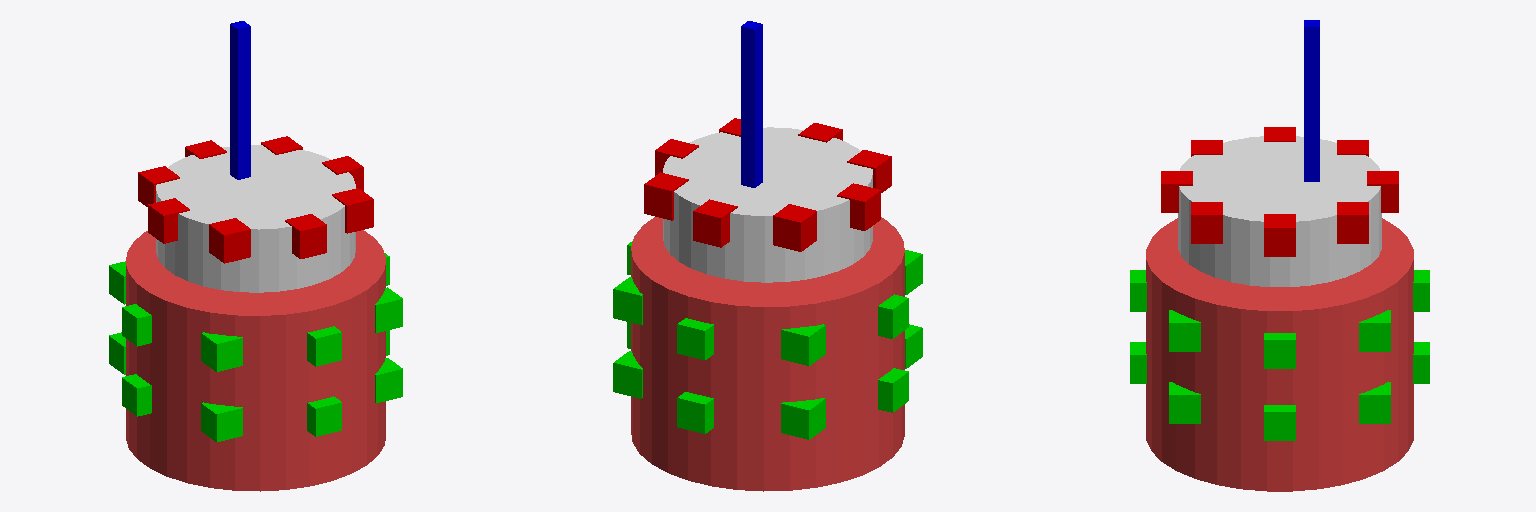
URDF robot description (random_bottle):
<?xml version="1.0"?>
<robot name="random_bottle">

  <!-- Define the cap link -->
  <link name="link1">
    <visual>
      <geometry>
        <mesh filename="cap.obj" scale="1.0 1.0 1.0"/>
      </geometry>
       <material name="white">
        <color rgba=".9 .9 .9 1"/>
      </material>

    </visual>
    <collision>
      <geometry>
        <mesh filename="cap.obj" scale="1.0 1.0 1.0"/>
      </geometry>
    </collision>

    <inertial>
      <mass value="0.010800507779862528"/> <!-- You can adjust the mass as needed -->
      <origin rpy="0 0 0" xyz="0 0 0"/>
      <inertia ixx="3.2770973453452133e-06" ixy="0.0" ixz="0.0" iyy="3.2770973453452133e-06" iyz="0.0" izz="5.641009822586555e-06"/>
    </inertial>
  </link>

    <link name="l10">
    <visual>
      <geometry>
        <box size="0.01 0.01 0.01"/>
      </geometry>

      <material name="red">
        <color rgba="0.9 0.0 0.0 1"/>
      </material>

    </visual>

    <inertial>
      <mass value="0.0001"/> <!-- You can adjust the mass as needed -->
      <origin rpy="0 0 0" xyz="0 0 -0.00"/> <!-- Offset by half of link1's height + 0.03m for the margin -->
      <inertia ixx="0.000000003" ixy="0.0" ixz="0.0" iyy="0.0000003" iyz="0.0" izz="0.00000003"/>
    </inertial>

  </link>
  <link name="l11">
    <visual>
      <geometry>
        <box size="0.01 0.01 0.01"/>
      </geometry>

      <material name="red">
        <color rgba="0.9 0.0 0.0 1"/>
      </material>

    </visual>

    <inertial>
      <mass value="0.0001"/> <!-- You can adjust the mass as needed -->
      <origin rpy="0 0 0" xyz="0 0 -0.00"/> <!-- Offset by half of link1's height + 0.03m for the margin -->
      <inertia ixx="0.000000003" ixy="0.0" ixz="0.0" iyy="0.0000003" iyz="0.0" izz="0.00000003"/>
    </inertial>

  </link>
  <link name="l12">
    <visual>
      <geometry>
        <box size="0.01 0.01 0.01"/>
      </geometry>

      <material name="red">
        <color rgba="0.9 0.0 0.0 1"/>
      </material>

    </visual>

    <inertial>
      <mass value="0.0001"/> <!-- You can adjust the mass as needed -->
      <origin rpy="0 0 0" xyz="0 0 -0.00"/> <!-- Offset by half of link1's height + 0.03m for the margin -->
      <inertia ixx="0.000000003" ixy="0.0" ixz="0.0" iyy="0.0000003" iyz="0.0" izz="0.00000003"/>
    </inertial>

  </link>
  <link name="l13">
    <visual>
      <geometry>
        <box size="0.01 0.01 0.01"/>
      </geometry>

      <material name="red">
        <color rgba="0.9 0.0 0.0 1"/>
      </material>

    </visual>

    <inertial>
      <mass value="0.0001"/> <!-- You can adjust the mass as needed -->
      <origin rpy="0 0 0" xyz="0 0 -0.00"/> <!-- Offset by half of link1's height + 0.03m for the margin -->
      <inertia ixx="0.000000003" ixy="0.0" ixz="0.0" iyy="0.0000003" iyz="0.0" izz="0.00000003"/>
    </inertial>

  </link>
  <link name="l10b">
    <visual>
      <geometry>
        <box size="0.01 0.01 0.01"/>
      </geometry>

      <material name="red">
        <color rgba="0.9 0.0 0.0 1"/>
      </material>

    </visual>

    <inertial>
      <mass value="0.0001"/> <!-- You can adjust the mass as needed -->
      <origin rpy="0 0 0" xyz="0 0 -0.00"/> <!-- Offset by half of link1's height + 0.03m for the margin -->
      <inertia ixx="0.000000003" ixy="0.0" ixz="0.0" iyy="0.0000003" iyz="0.0" izz="0.00000003"/>
    </inertial>

  </link>
  <link name="l11b">
    <visual>
      <geometry>
        <box size="0.01 0.01 0.01"/>
      </geometry>

      <material name="red">
        <color rgba="0.9 0.0 0.0 1"/>
      </material>

    </visual>

    <inertial>
      <mass value="0.0001"/> <!-- You can adjust the mass as needed -->
      <origin rpy="0 0 0" xyz="0 0 -0.00"/> <!-- Offset by half of link1's height + 0.03m for the margin -->
      <inertia ixx="0.000000003" ixy="0.0" ixz="0.0" iyy="0.0000003" iyz="0.0" izz="0.00000003"/>
    </inertial>

  </link>
  <link name="l12b">
    <visual>
      <geometry>
        <box size="0.01 0.01 0.01"/>
      </geometry>

      <material name="red">
        <color rgba="0.9 0.0 0.0 1"/>
      </material>

    </visual>

    <inertial>
      <mass value="0.0001"/> <!-- You can adjust the mass as needed -->
      <origin rpy="0 0 0" xyz="0 0 -0.00"/> <!-- Offset by half of link1's height + 0.03m for the margin -->
      <inertia ixx="0.000000003" ixy="0.0" ixz="0.0" iyy="0.0000003" iyz="0.0" izz="0.00000003"/>
    </inertial>

  </link>
  <link name="l13b">
    <visual>
      <geometry>
        <box size="0.01 0.01 0.01"/>
      </geometry>

      <material name="red">
        <color rgba="0.9 0.0 0.0 1"/>
      </material>

    </visual>

    <inertial>
      <mass value="0.0001"/> <!-- You can adjust the mass as needed -->
      <origin rpy="0 0 0" xyz="0 0 -0.00"/> <!-- Offset by half of link1's height + 0.03m for the margin -->
      <inertia ixx="0.000000003" ixy="0.0" ixz="0.0" iyy="0.0000003" iyz="0.0" izz="0.00000003"/>
    </inertial>

  </link>
  <link name="l20">
    <visual>
      <geometry>
        <box size="0.01 0.01 0.01"/>
      </geometry>

      <material name="red">
        <color rgba="0.0 0.9 0.0 1"/>
      </material>

    </visual>

    <inertial>
      <mass value="0.0001"/> <!-- You can adjust the mass as needed -->
      <origin rpy="0 0 0" xyz="0 0 -0.00"/> <!-- Offset by half of link1's height + 0.03m for the margin -->
      <inertia ixx="0.000000003" ixy="0.0" ixz="0.0" iyy="0.0000003" iyz="0.0" izz="0.00000003"/>
    </inertial>

  </link>
  <link name="l21">
    <visual>
      <geometry>
        <box size="0.01 0.01 0.01"/>
      </geometry>

      <material name="red">
        <color rgba="0.0 0.9 0.0 1"/>
      </material>

    </visual>

    <inertial>
      <mass value="0.0001"/> <!-- You can adjust the mass as needed -->
      <origin rpy="0 0 0" xyz="0 0 -0.00"/> <!-- Offset by half of link1's height + 0.03m for the margin -->
      <inertia ixx="0.000000003" ixy="0.0" ixz="0.0" iyy="0.0000003" iyz="0.0" izz="0.00000003"/>
    </inertial>

  </link>
  <link name="l22">
    <visual>
      <geometry>
        <box size="0.01 0.01 0.01"/>
      </geometry>

      <material name="red">
        <color rgba="0.0 0.9 0.0 1"/>
      </material>

    </visual>

    <inertial>
      <mass value="0.0001"/> <!-- You can adjust the mass as needed -->
      <origin rpy="0 0 0" xyz="0 0 -0.00"/> <!-- Offset by half of link1's height + 0.03m for the margin -->
      <inertia ixx="0.000000003" ixy="0.0" ixz="0.0" iyy="0.0000003" iyz="0.0" izz="0.00000003"/>
    </inertial>

  </link>
  <link name="l23">
    <visual>
      <geometry>
        <box size="0.01 0.01 0.01"/>
      </geometry>

      <material name="red">
        <color rgba="0.0 0.9 0.0 1"/>
      </material>

    </visual>

    <inertial>
      <mass value="0.0001"/> <!-- You can adjust the mass as needed -->
      <origin rpy="0 0 0" xyz="0 0 -0.00"/> <!-- Offset by half of link1's height + 0.03m for the margin -->
      <inertia ixx="0.000000003" ixy="0.0" ixz="0.0" iyy="0.0000003" iyz="0.0" izz="0.00000003"/>
    </inertial>

  </link>
  <link name="l24">
    <visual>
      <geometry>
        <box size="0.01 0.01 0.01"/>
      </geometry>

      <material name="red">
        <color rgba="0.0 0.9 0.0 1"/>
      </material>

    </visual>

    <inertial>
      <mass value="0.0001"/> <!-- You can adjust the mass as needed -->
      <origin rpy="0 0 0" xyz="0 0 -0.00"/> <!-- Offset by half of link1's height + 0.03m for the margin -->
      <inertia ixx="0.000000003" ixy="0.0" ixz="0.0" iyy="0.0000003" iyz="0.0" izz="0.00000003"/>
    </inertial>

  </link>
  <link name="l25">
    <visual>
      <geometry>
        <box size="0.01 0.01 0.01"/>
      </geometry>

      <material name="red">
        <color rgba="0.0 0.9 0.0 1"/>
      </material>

    </visual>

    <inertial>
      <mass value="0.0001"/> <!-- You can adjust the mass as needed -->
      <origin rpy="0 0 0" xyz="0 0 -0.00"/> <!-- Offset by half of link1's height + 0.03m for the margin -->
      <inertia ixx="0.000000003" ixy="0.0" ixz="0.0" iyy="0.0000003" iyz="0.0" izz="0.00000003"/>
    </inertial>

  </link>
  <link name="l26">
    <visual>
      <geometry>
        <box size="0.01 0.01 0.01"/>
      </geometry>

      <material name="red">
        <color rgba="0.0 0.9 0.0 1"/>
      </material>

    </visual>

    <inertial>
      <mass value="0.0001"/> <!-- You can adjust the mass as needed -->
      <origin rpy="0 0 0" xyz="0 0 -0.00"/> <!-- Offset by half of link1's height + 0.03m for the margin -->
      <inertia ixx="0.000000003" ixy="0.0" ixz="0.0" iyy="0.0000003" iyz="0.0" izz="0.00000003"/>
    </inertial>

  </link>
  <link name="l27">
    <visual>
      <geometry>
        <box size="0.01 0.01 0.01"/>
      </geometry>

      <material name="red">
        <color rgba="0.0 0.9 0.0 1"/>
      </material>

    </visual>

    <inertial>
      <mass value="0.0001"/> <!-- You can adjust the mass as needed -->
      <origin rpy="0 0 0" xyz="0 0 -0.00"/> <!-- Offset by half of link1's height + 0.03m for the margin -->
      <inertia ixx="0.000000003" ixy="0.0" ixz="0.0" iyy="0.0000003" iyz="0.0" izz="0.00000003"/>
    </inertial>

  </link>
  <link name="l30">
    <visual>
      <geometry>
        <box size="0.01 0.01 0.01"/>
      </geometry>

      <material name="red">
        <color rgba="0.0 0.9 0.0 1"/>
      </material>

    </visual>

    <inertial>
      <mass value="0.0001"/> <!-- You can adjust the mass as needed -->
      <origin rpy="0 0 0" xyz="0 0 -0.00"/> <!-- Offset by half of link1's height + 0.03m for the margin -->
      <inertia ixx="0.000000003" ixy="0.0" ixz="0.0" iyy="0.0000003" iyz="0.0" izz="0.00000003"/>
    </inertial>

  </link>
  <link name="l31">
    <visual>
      <geometry>
        <box size="0.01 0.01 0.01"/>
      </geometry>

      <material name="red">
        <color rgba="0.0 0.9 0.0 1"/>
      </material>

    </visual>

    <inertial>
      <mass value="0.0001"/> <!-- You can adjust the mass as needed -->
      <origin rpy="0 0 0" xyz="0 0 -0.00"/> <!-- Offset by half of link1's height + 0.03m for the margin -->
      <inertia ixx="0.000000003" ixy="0.0" ixz="0.0" iyy="0.0000003" iyz="0.0" izz="0.00000003"/>
    </inertial>

  </link>
  <link name="l32">
    <visual>
      <geometry>
        <box size="0.01 0.01 0.01"/>
      </geometry>

      <material name="red">
        <color rgba="0.0 0.9 0.0 1"/>
      </material>

    </visual>

    <inertial>
      <mass value="0.0001"/> <!-- You can adjust the mass as needed -->
      <origin rpy="0 0 0" xyz="0 0 -0.00"/> <!-- Offset by half of link1's height + 0.03m for the margin -->
      <inertia ixx="0.000000003" ixy="0.0" ixz="0.0" iyy="0.0000003" iyz="0.0" izz="0.00000003"/>
    </inertial>

  </link>
  <link name="l33">
    <visual>
      <geometry>
        <box size="0.01 0.01 0.01"/>
      </geometry>

      <material name="red">
        <color rgba="0.0 0.9 0.0 1"/>
      </material>

    </visual>

    <inertial>
      <mass value="0.0001"/> <!-- You can adjust the mass as needed -->
      <origin rpy="0 0 0" xyz="0 0 -0.00"/> <!-- Offset by half of link1's height + 0.03m for the margin -->
      <inertia ixx="0.000000003" ixy="0.0" ixz="0.0" iyy="0.0000003" iyz="0.0" izz="0.00000003"/>
    </inertial>

  </link>
  <link name="l34">
    <visual>
      <geometry>
        <box size="0.01 0.01 0.01"/>
      </geometry>

      <material name="red">
        <color rgba="0.0 0.9 0.0 1"/>
      </material>

    </visual>

    <inertial>
      <mass value="0.0001"/> <!-- You can adjust the mass as needed -->
      <origin rpy="0 0 0" xyz="0 0 -0.00"/> <!-- Offset by half of link1's height + 0.03m for the margin -->
      <inertia ixx="0.000000003" ixy="0.0" ixz="0.0" iyy="0.0000003" iyz="0.0" izz="0.00000003"/>
    </inertial>

  </link>
  <link name="l35">
    <visual>
      <geometry>
        <box size="0.01 0.01 0.01"/>
      </geometry>

      <material name="red">
        <color rgba="0.0 0.9 0.0 1"/>
      </material>

    </visual>

    <inertial>
      <mass value="0.0001"/> <!-- You can adjust the mass as needed -->
      <origin rpy="0 0 0" xyz="0 0 -0.00"/> <!-- Offset by half of link1's height + 0.03m for the margin -->
      <inertia ixx="0.000000003" ixy="0.0" ixz="0.0" iyy="0.0000003" iyz="0.0" izz="0.00000003"/>
    </inertial>

  </link>
  <link name="l36">
    <visual>
      <geometry>
        <box size="0.01 0.01 0.01"/>
      </geometry>

      <material name="red">
        <color rgba="0.0 0.9 0.0 1"/>
      </material>

    </visual>

    <inertial>
      <mass value="0.0001"/> <!-- You can adjust the mass as needed -->
      <origin rpy="0 0 0" xyz="0 0 -0.00"/> <!-- Offset by half of link1's height + 0.03m for the margin -->
      <inertia ixx="0.000000003" ixy="0.0" ixz="0.0" iyy="0.0000003" iyz="0.0" izz="0.00000003"/>
    </inertial>

  </link>
  <link name="l37">
    <visual>
      <geometry>
        <box size="0.01 0.01 0.01"/>
      </geometry>

      <material name="red">
        <color rgba="0.0 0.9 0.0 1"/>
      </material>

    </visual>

    <inertial>
      <mass value="0.0001"/> <!-- You can adjust the mass as needed -->
      <origin rpy="0 0 0" xyz="0 0 -0.00"/> <!-- Offset by half of link1's height + 0.03m for the margin -->
      <inertia ixx="0.000000003" ixy="0.0" ixz="0.0" iyy="0.0000003" iyz="0.0" izz="0.00000003"/>
    </inertial>

  </link>


  <link name="hint">
    <visual>
      <geometry>
        <box size="0.005 0.005 0.07"/> <!-- 9cm x 9cm x 6cm -->
      </geometry>
       <material name="blue">
        <color rgba=".0 .0 .9 1"/>
      </material>
    </visual>

    <inertial>
      <mass value="0.0001"/> <!-- You can adjust the mass as needed -->
      <origin rpy="0 0 0" xyz="0 0 -0.00"/> <!-- Offset by half of link1's height + 0.03m for the margin -->
      <inertia ixx="0.000000003" ixy="0.0" ixz="0.0" iyy="0.0000003" iyz="0.0" izz="0.00000003"/>
    </inertial>


  </link>

  <!-- Define the base link -->
  <link name="link2">
    <visual>
      <geometry>
        <mesh filename="base.obj" scale="1.0 1.0 1.0"/>
      </geometry>
      <material name="red">
        <color rgba=".9 .3 .3 1"/>
      </material>

    </visual>

    <collision>
      <geometry>
        <mesh filename="base.obj" scale="1.0 1.0 1.0"/>
      </geometry>
    </collision>

    <inertial>
      <mass value="0.05495798043208274"/> <!-- You can adjust the mass as needed -->
      <origin rpy="0 0 0" xyz="0 0 -0.00"/> <!-- Offset by half of link1's height + 0.03m for the margin -->
      <inertia ixx="4.223919749973872e-05" ixy="0.0" ixz="0.0" iyy="4.223919749973872e-05" iyz="0.0" izz="4.8745212260122546e-05"/>
    </inertial>
  </link>



  <link name="brake">
   <visual>
      <geometry>
        <box size="0.02 0.02 0.005"/> <!-- 6cm x 6cm x 2cm -->
      </geometry>
       <material name="gray">
        <color rgba=".5 .5 .5 1"/>
      </material>

    </visual>
    <collision>
      <geometry>
        <box size="0.02 0.02 0.005"/> <!-- 6cm x 6cm x 2cm -->
      </geometry>
    </collision>

    <inertial>
      <mass value="0.005"/> <!-- You can adjust the mass as needed -->
      <origin rpy="0 0 0" xyz="0 0 0"/>
      <inertia ixx="0.00018" ixy="0.0" ixz="0.0" iyy="0.00018" iyz="0.0" izz="0.00018"/>
    </inertial>
  </link>

  <!-- Define the joint connecting link1 and link2 as a revolute joint along z-axis -->
  <joint name="fix_joint" type="fixed">
    <parent link="link1"/>
    <child link="hint"/>
    <origin rpy="0 0 0" xyz="0 0.01 0.03"/> <!-- Offset by half of link1's height for the margin -->
    <axis xyz="0 0 1"/>
  </joint>

  <!-- Define the joint connecting link1 and link2 as a revolute joint along z-axis -->
  <joint name="brake_joint" type="prismatic">
    <parent link="link2"/>
    <child link="brake"/>
    <origin rpy="0 0 0" xyz="0 0 0.05375292177828958"/> <!-- Offset by half of link1's height for the margin -->
    <axis xyz="0 0 1"/>
    <limit lower="-0.02" upper="0.02" />
    <!-- <dynamics damping="0.0" friction="0.0"/> -->
  </joint>


  <joint name="b_joint" type="revolute">
    <parent link="link2"/>
    <child link="link1"/>
    <origin rpy="0 0 0" xyz="0 0 0.04622957666426884"/> <!-- Offset by half of link1's height for the margin -->
    <axis xyz="0 0 1"/>
    <!-- No joint limits -->
    <dynamics damping="0.0" friction="0.0"/>
  </joint>


  <!-- marker -->
    <joint name="jl10" type="fixed">
    <parent link="link1"/>
    <child link="l10"/>
    <origin rpy="0 0 0" xyz="0.0 0.032319999007749754 0.006757003534206221"/> <!-- Offset by half of link1's height for the margin -->
    <axis xyz="0 0 1"/>
  </joint>
  <joint name="jl11" type="fixed">
    <parent link="link1"/>
    <child link="l11"/>
    <origin rpy="0 0 0" xyz="0.022853690160141202 0.02285369077250347 0.006757003534206221"/> <!-- Offset by half of link1's height for the margin -->
    <axis xyz="0 0 1"/>
  </joint>
  <joint name="jl12" type="fixed">
    <parent link="link1"/>
    <child link="l12"/>
    <origin rpy="0 0 0" xyz="0.03231999900774974 8.660110310408826e-10 0.006757003534206221"/> <!-- Offset by half of link1's height for the margin -->
    <axis xyz="0 0 1"/>
  </joint>
  <joint name="jl13" type="fixed">
    <parent link="link1"/>
    <child link="l13"/>
    <origin rpy="0 0 0" xyz="0.02285369138486572 -0.022853689547778916 0.006757003534206221"/> <!-- Offset by half of link1's height for the margin -->
    <axis xyz="0 0 1"/>
  </joint>
  <joint name="jl10b" type="fixed">
    <parent link="link1"/>
    <child link="l10b"/>
    <origin rpy="0 0 0" xyz="1.7320220620817647e-09 -0.032319999007749706 0.006757003534206221"/> <!-- Offset by half of link1's height for the margin -->
    <axis xyz="0 0 1"/>
  </joint>
  <joint name="jl11b" type="fixed">
    <parent link="link1"/>
    <child link="l11b"/>
    <origin rpy="0 0 0" xyz="-0.022853688935416602 -0.022853691997227973 0.006757003534206221"/> <!-- Offset by half of link1's height for the margin -->
    <axis xyz="0 0 1"/>
  </joint>
  <joint name="jl12b" type="fixed">
    <parent link="link1"/>
    <child link="l12b"/>
    <origin rpy="0 0 0" xyz="-0.03231999900774965 -2.598033078769683e-09 0.006757003534206221"/> <!-- Offset by half of link1's height for the margin -->
    <axis xyz="0 0 1"/>
  </joint>
  <joint name="jl13b" type="fixed">
    <parent link="link1"/>
    <child link="l13b"/>
    <origin rpy="0 0 0" xyz="-0.022853692609590186 0.02285368832305429 0.006757003534206221"/> <!-- Offset by half of link1's height for the margin -->
    <axis xyz="0 0 1"/>
  </joint>
  <joint name="jl20" type="fixed">
    <parent link="link2"/>
    <child link="l20"/>
    <origin rpy="0 0 0" xyz="0.0 0.04211779226403376 0.018737745998561307"/> <!-- Offset by half of link1's height for the margin -->
    <axis xyz="0 0 1"/>
  </joint>
  <joint name="jl21" type="fixed">
    <parent link="link2"/>
    <child link="l21"/>
    <origin rpy="0 0 0" xyz="0.029781776119504774 0.02978177691750439 0.018737745998561307"/> <!-- Offset by half of link1's height for the margin -->
    <axis xyz="0 0 1"/>
  </joint>
  <joint name="jl22" type="fixed">
    <parent link="link2"/>
    <child link="l22"/>
    <origin rpy="0 0 0" xyz="0.04211779226403375 1.1285418881045037e-09 0.018737745998561307"/> <!-- Offset by half of link1's height for the margin -->
    <axis xyz="0 0 1"/>
  </joint>
  <joint name="jl23" type="fixed">
    <parent link="link2"/>
    <child link="l23"/>
    <origin rpy="0 0 0" xyz="0.029781777715503985 -0.02978177532150513 0.018737745998561307"/> <!-- Offset by half of link1's height for the margin -->
    <axis xyz="0 0 1"/>
  </joint>
  <joint name="jl24" type="fixed">
    <parent link="link2"/>
    <child link="l24"/>
    <origin rpy="0 0 0" xyz="2.257083776209006e-09 -0.0421177922640337 0.018737745998561307"/> <!-- Offset by half of link1's height for the margin -->
    <axis xyz="0 0 1"/>
  </joint>
  <joint name="jl25" type="fixed">
    <parent link="link2"/>
    <child link="l25"/>
    <origin rpy="0 0 0" xyz="-0.029781774523505458 -0.02978177851350358 0.018737745998561307"/> <!-- Offset by half of link1's height for the margin -->
    <axis xyz="0 0 1"/>
  </joint>
  <joint name="jl26" type="fixed">
    <parent link="link2"/>
    <child link="l26"/>
    <origin rpy="0 0 0" xyz="-0.04211779226403362 -3.3856256456094505e-09 0.018737745998561307"/> <!-- Offset by half of link1's height for the margin -->
    <axis xyz="0 0 1"/>
  </joint>
  <joint name="jl27" type="fixed">
    <parent link="link2"/>
    <child link="l27"/>
    <origin rpy="0 0 0" xyz="-0.029781779311503123 0.029781773725505785 0.018737745998561307"/> <!-- Offset by half of link1's height for the margin -->
    <axis xyz="0 0 1"/>
  </joint>
  <joint name="jl30" type="fixed">
    <parent link="link2"/>
    <child link="l30"/>
    <origin rpy="0 0 0" xyz="0.0 0.04211779226403376 -0.00624591533285377"/> <!-- Offset by half of link1's height for the margin -->
    <axis xyz="0 0 1"/>
  </joint>
  <joint name="jl31" type="fixed">
    <parent link="link2"/>
    <child link="l31"/>
    <origin rpy="0 0 0" xyz="0.029781776119504774 0.02978177691750439 -0.00624591533285377"/> <!-- Offset by half of link1's height for the margin -->
    <axis xyz="0 0 1"/>
  </joint>
  <joint name="jl32" type="fixed">
    <parent link="link2"/>
    <child link="l32"/>
    <origin rpy="0 0 0" xyz="0.04211779226403375 1.1285418881045037e-09 -0.00624591533285377"/> <!-- Offset by half of link1's height for the margin -->
    <axis xyz="0 0 1"/>
  </joint>
  <joint name="jl33" type="fixed">
    <parent link="link2"/>
    <child link="l33"/>
    <origin rpy="0 0 0" xyz="0.029781777715503985 -0.02978177532150513 -0.00624591533285377"/> <!-- Offset by half of link1's height for the margin -->
    <axis xyz="0 0 1"/>
  </joint>
  <joint name="jl34" type="fixed">
    <parent link="link2"/>
    <child link="l34"/>
    <origin rpy="0 0 0" xyz="2.257083776209006e-09 -0.0421177922640337 -0.00624591533285377"/> <!-- Offset by half of link1's height for the margin -->
    <axis xyz="0 0 1"/>
  </joint>
  <joint name="jl35" type="fixed">
    <parent link="link2"/>
    <child link="l35"/>
    <origin rpy="0 0 0" xyz="-0.029781774523505458 -0.02978177851350358 -0.00624591533285377"/> <!-- Offset by half of link1's height for the margin -->
    <axis xyz="0 0 1"/>
  </joint>
  <joint name="jl36" type="fixed">
    <parent link="link2"/>
    <child link="l36"/>
    <origin rpy="0 0 0" xyz="-0.04211779226403362 -3.3856256456094505e-09 -0.00624591533285377"/> <!-- Offset by half of link1's height for the margin -->
    <axis xyz="0 0 1"/>
  </joint>
  <joint name="jl37" type="fixed">
    <parent link="link2"/>
    <child link="l37"/>
    <origin rpy="0 0 0" xyz="-0.029781779311503123 0.029781773725505785 -0.00624591533285377"/> <!-- Offset by half of link1's height for the margin -->
    <axis xyz="0 0 1"/>
  </joint>



</robot>

--- What the picture shows (computed from the rendered views, not written in the file) ---
Views: 3 orthographic renders of the robot side by side, from view 1: azimuth 30°, elevation 25°; view 2: azimuth 150°, elevation 25°; view 3: azimuth 270°, elevation 25°.
Model random_bottle with 28 links and 27 joints (1 revolute, 1 prismatic, 25 fixed), rooted at link2, posed every joint at zero.
Links seen in each view (by area): view 1: link2, link1, hint, l11b, l10b, l35, l25, l12b, l13, l34, l24, l36 (+7 smaller); view 2: link2, link1, hint, l13b, l37, l27, l10, l12b, l11, l20, l30, l36 (+8 smaller); view 3: link2, link1, hint, l12, l11, l13, l21, l23, l22, l32, l31, l33 (+6 smaller).
Link boxes in pixels (x1,y1,x2,y2): link2: (126, 230, 385, 491); link1: (156, 145, 355, 292); hint: (230, 21, 250, 179); l11b: (209, 218, 250, 263); l10b: (285, 214, 326, 258); l35: (201, 402, 242, 441); l25: (201, 332, 242, 371); l12b: (148, 198, 189, 243); l13: (332, 188, 373, 233); l34: (307, 396, 341, 436); l24: (307, 326, 341, 366); l36: (122, 374, 151, 416); link2: (631, 217, 904, 491); link1: (663, 127, 872, 282); hint: (741, 21, 762, 187); l13b: (773, 204, 816, 251); l37: (781, 398, 825, 439); l27: (781, 324, 825, 365); l10: (693, 199, 737, 247); l12b: (837, 183, 880, 230); l11: (644, 172, 688, 220); l20: (677, 318, 713, 359); l30: (677, 392, 713, 433); l36: (878, 368, 908, 412); link2: (1146, 218, 1413, 491); link1: (1178, 136, 1381, 286); hint: (1304, 20, 1319, 181); l12: (1264, 214, 1295, 256); l11: (1337, 202, 1368, 243); l13: (1191, 202, 1222, 243); l21: (1359, 310, 1390, 351); l23: (1169, 310, 1200, 351); l22: (1264, 333, 1295, 368); l32: (1264, 405, 1295, 440); l31: (1359, 382, 1390, 423); l33: (1169, 382, 1200, 423).
Size in the robot's own frame: 0.0942 by 0.0942 by 0.1425 metres.
2 mesh visuals loaded from 2 distinct referenced files (2 OBJ).
